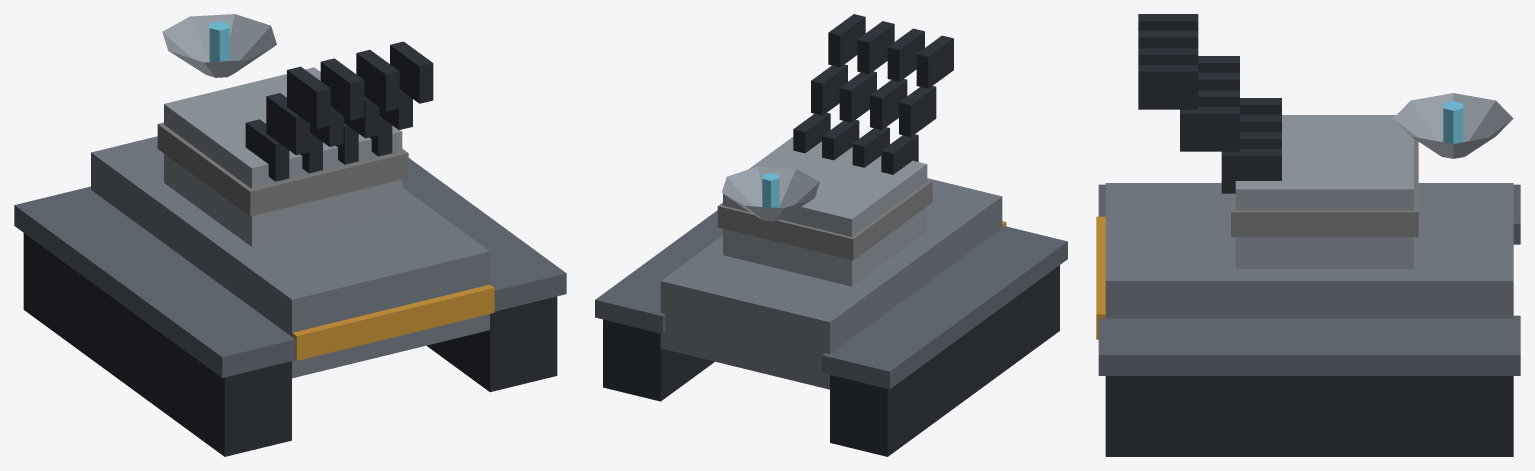
The model's file is hailstorm.obj.
3 views of the same model, side by side, from view 1: azimuth 30°, elevation 25°; view 2: azimuth 150°, elevation 25°; view 3: azimuth 270°, elevation 25° (orthographic). The views are drawn at different scales.
Visible parts, largest first — view 1: hailstorm; view 2: hailstorm; view 3: hailstorm.
Part boxes in pixels (x1,y1,x2,y2): hailstorm: [14, 14, 566, 456]; hailstorm: [595, 14, 1067, 456]; hailstorm: [1096, 14, 1520, 456].
Size of the model in its own units: 1.74 by 1.58 by 1.83.
